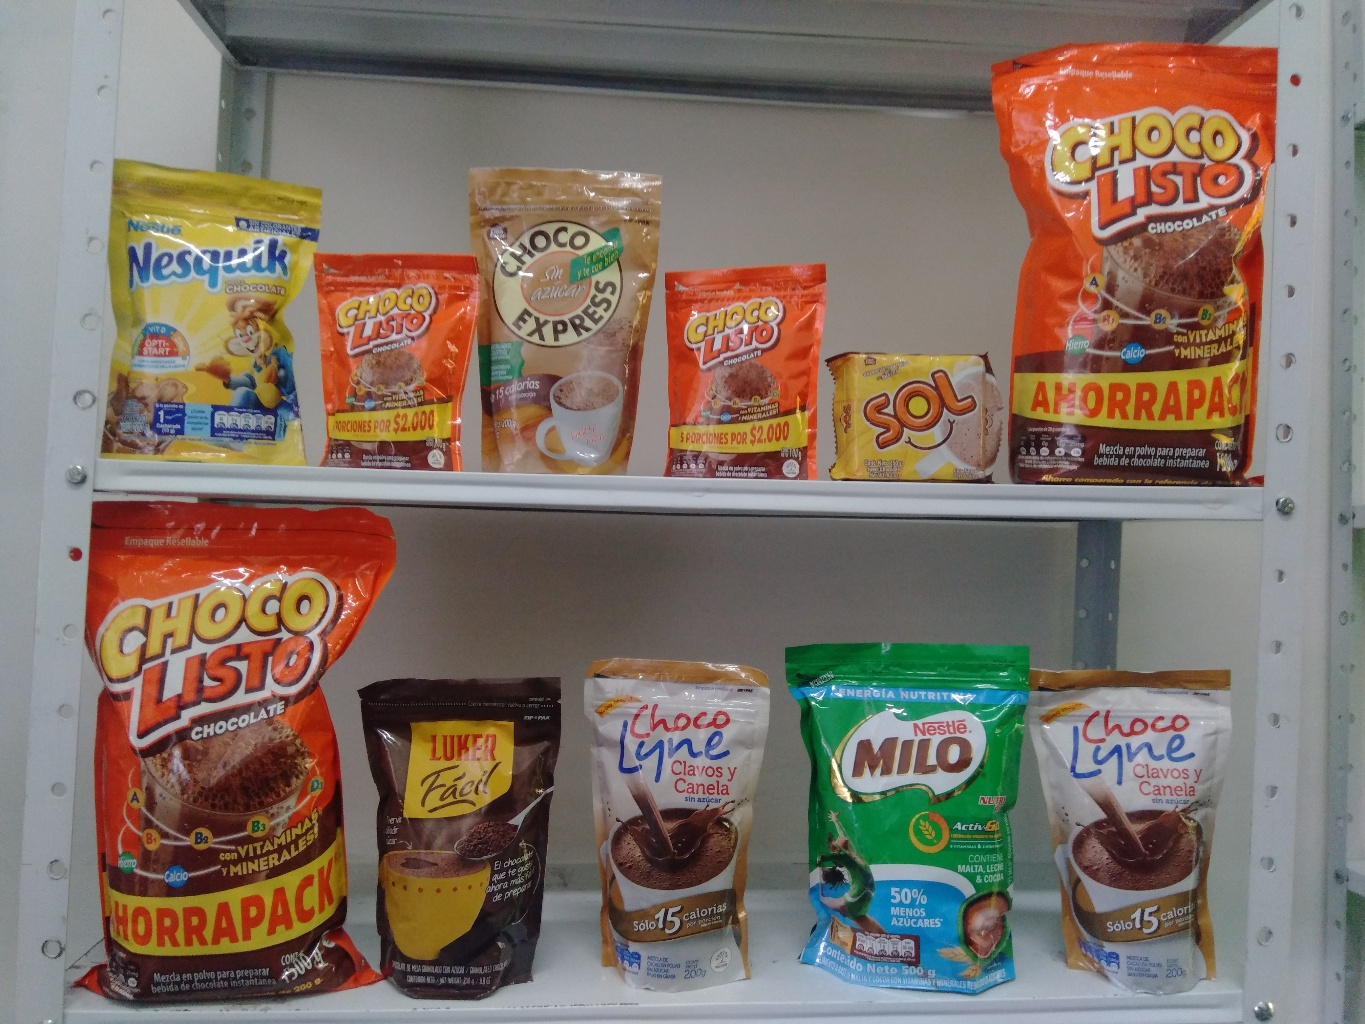COL0170103DYP1,500: (81, 503, 388, 990)
COL0170205DYP50000: (790, 648, 1056, 986)
COL0170303DYP20000: (88, 162, 316, 464)
